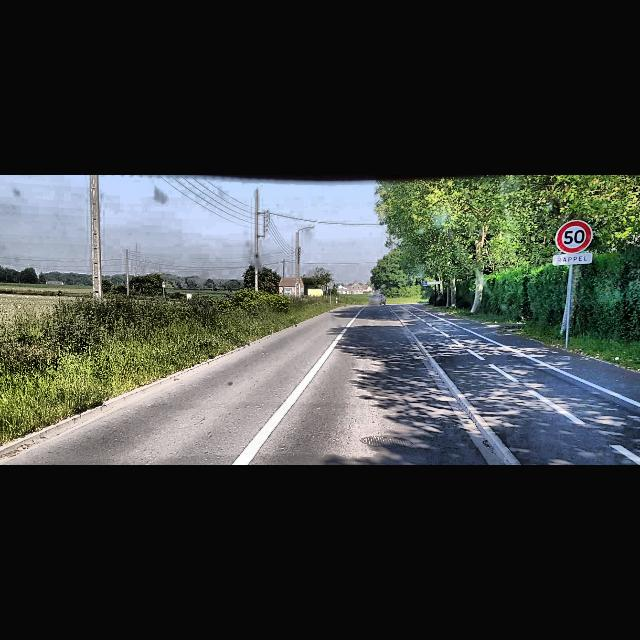speed_50: (556, 220, 592, 254)
